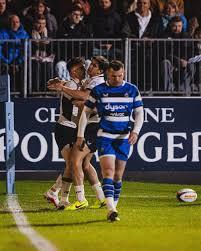ballon_rugby: (175, 187, 199, 203)
